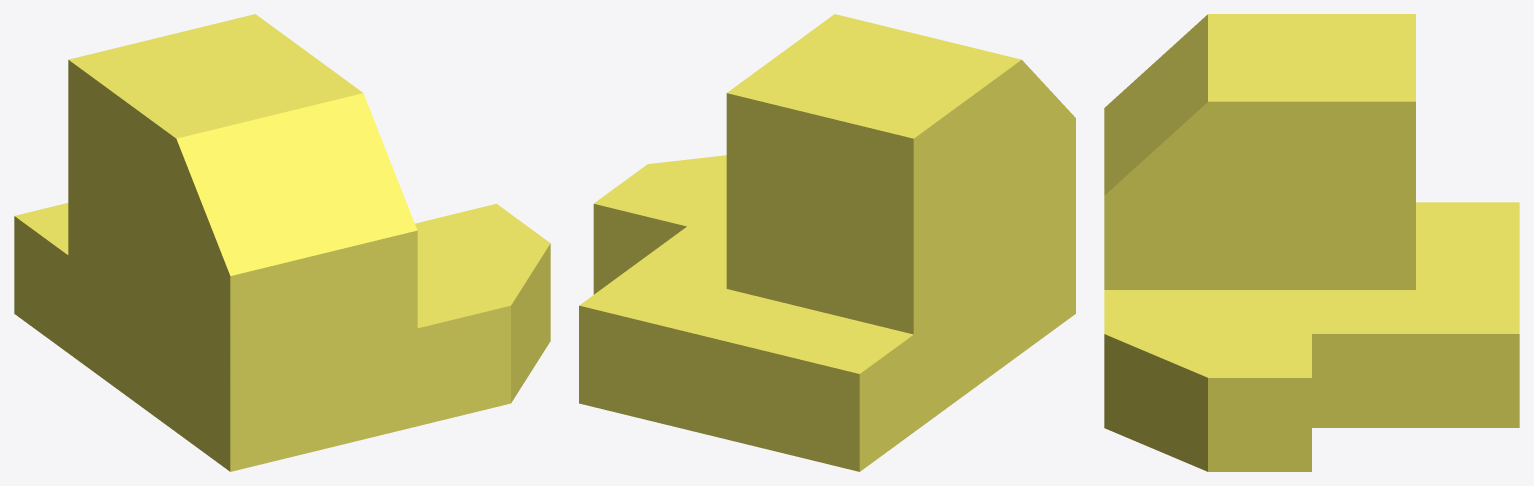
The picture shows the model from 3 angles, left to right: view 1: azimuth 30°, elevation 25°; view 2: azimuth 150°, elevation 25°; view 3: azimuth 270°, elevation 25°; orthographic projection. The views are drawn at different scales.
Parts seen in each view (by area): view 1: 906; view 2: 906; view 3: 906.
Boxes of the visible parts, left/top/right/bottom form: 906: left=14, top=14, right=550, bottom=471; 906: left=579, top=14, right=1075, bottom=471; 906: left=1104, top=14, right=1519, bottom=471.
Size of the model in its own units: 0.06 by 0.045 by 0.06.
